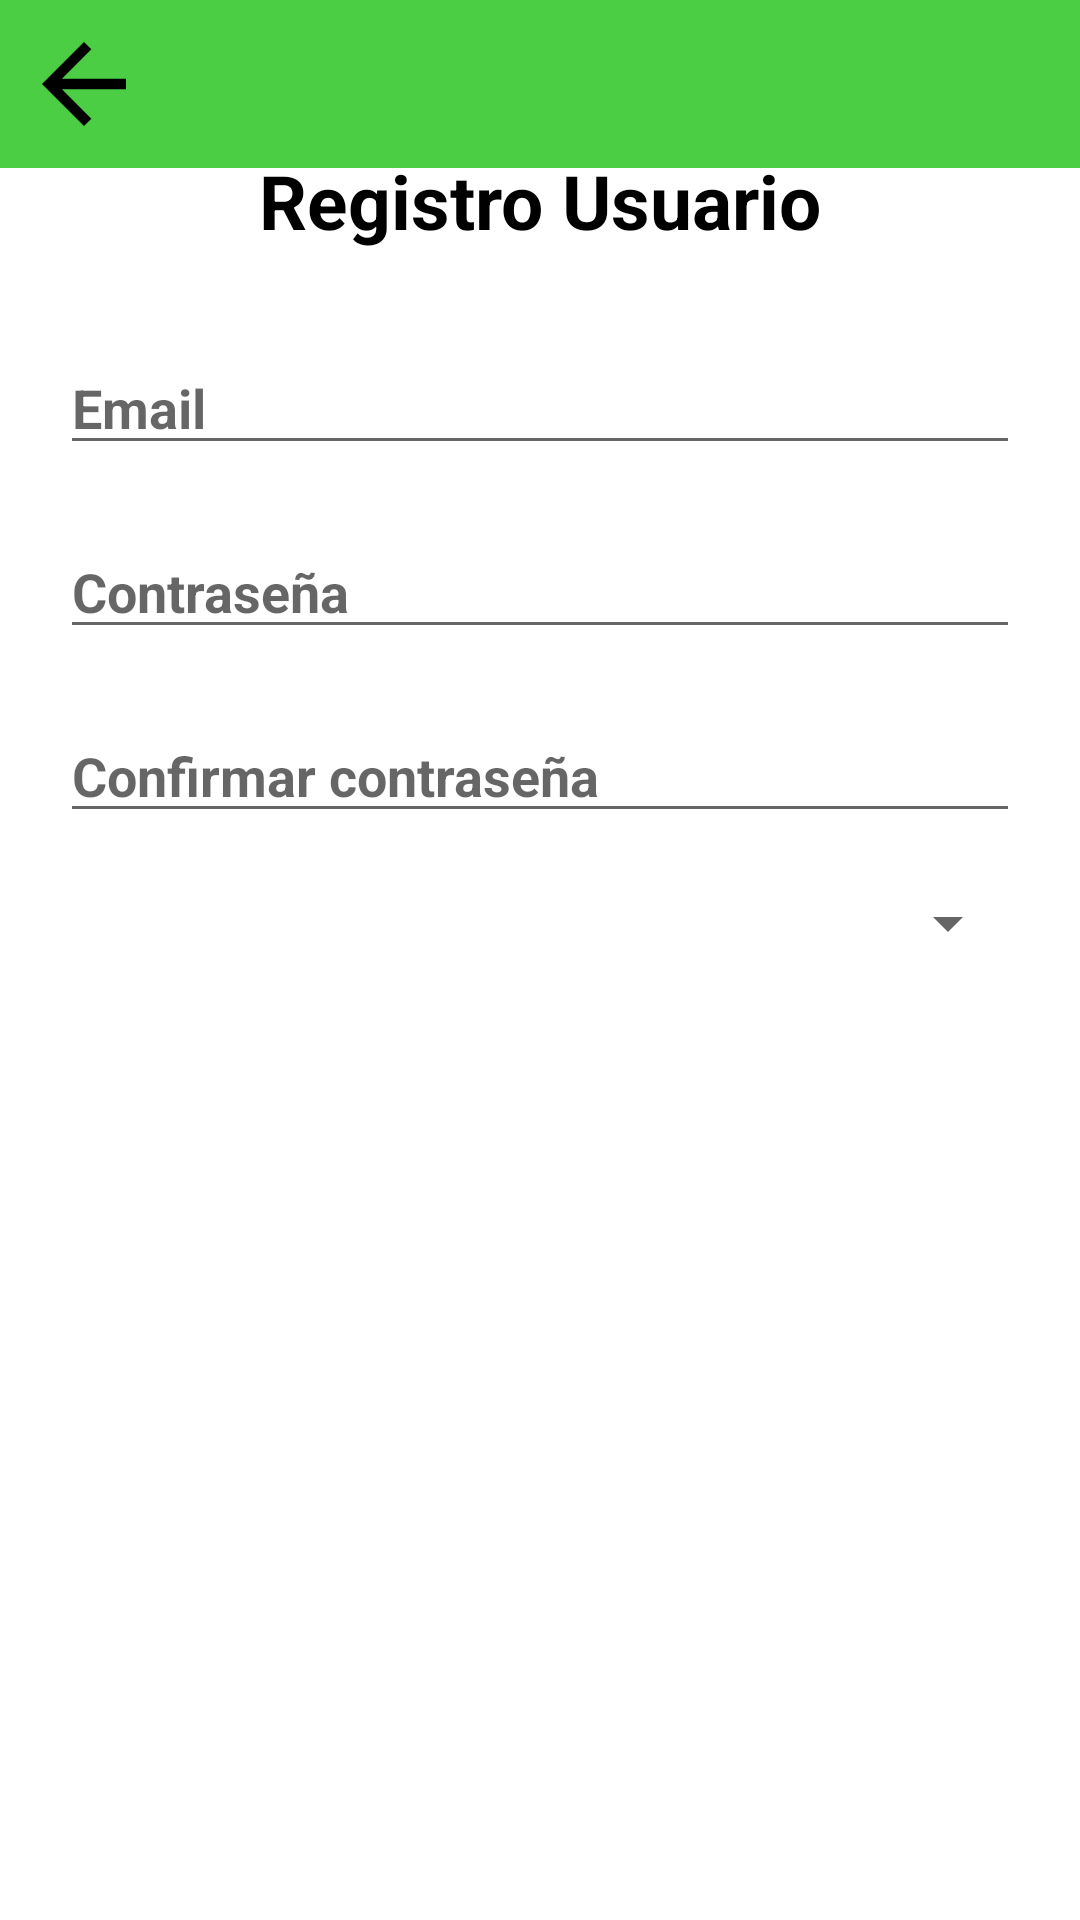

Where icons sit on this 1080*1920 app screen, as region(x1, y1, x2, y2):
arrow back: region(42, 42, 126, 126)
